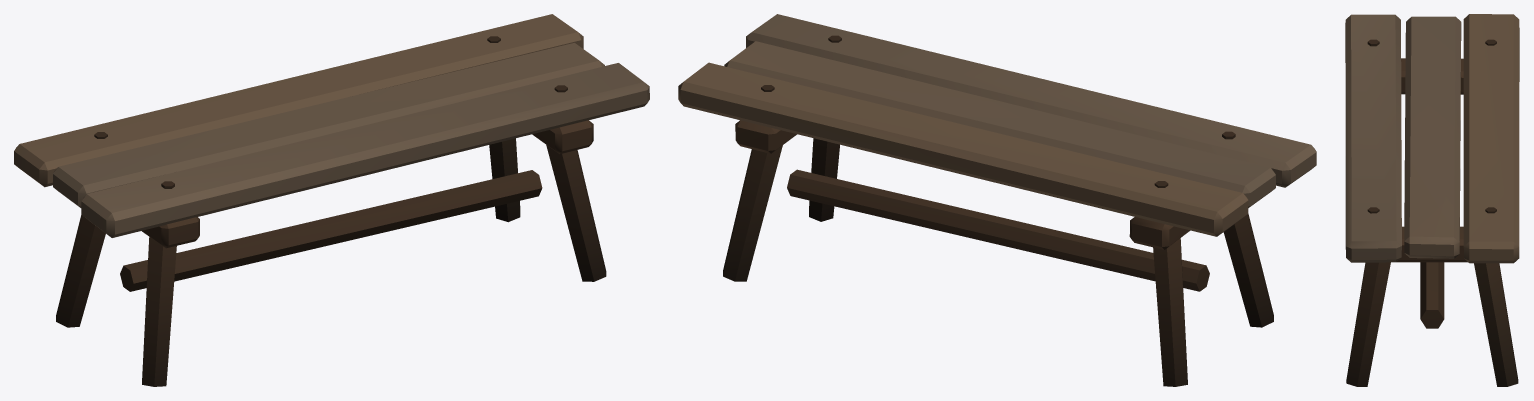
File: ph_deco_bench_wood.glb
3 renders of one model, left to right at view 1: azimuth 30°, elevation 25°; view 2: azimuth 150°, elevation 25°; view 3: azimuth 270°, elevation 25°, orthographic. The views are drawn at different scales.
Parts seen in each view (by area): view 1: ph_deco_bench_wood; view 2: ph_deco_bench_wood; view 3: ph_deco_bench_wood.
Boxes of the visible parts, <box> form: ph_deco_bench_wood: <box>14,14,649,386</box>; ph_deco_bench_wood: <box>678,14,1316,386</box>; ph_deco_bench_wood: <box>1345,14,1519,386</box>.
Bounding box in the file's own units: 1.39 × 0.4631 × 0.4385.
